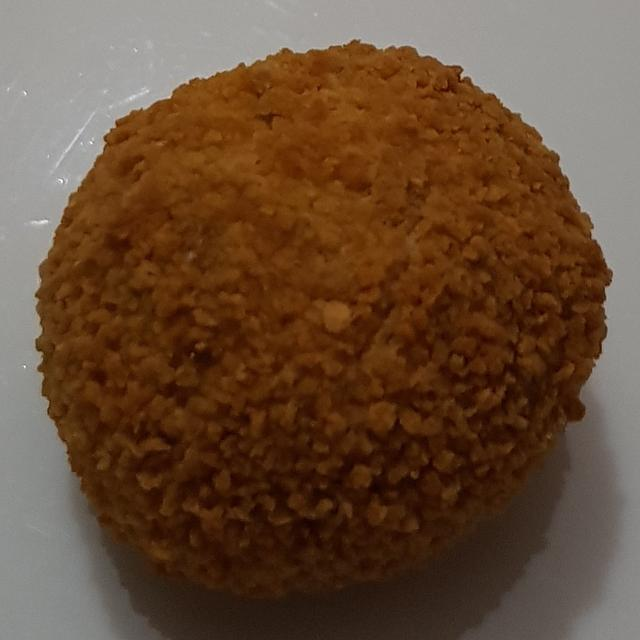Chicken Cutlet: (31, 37, 613, 601)
